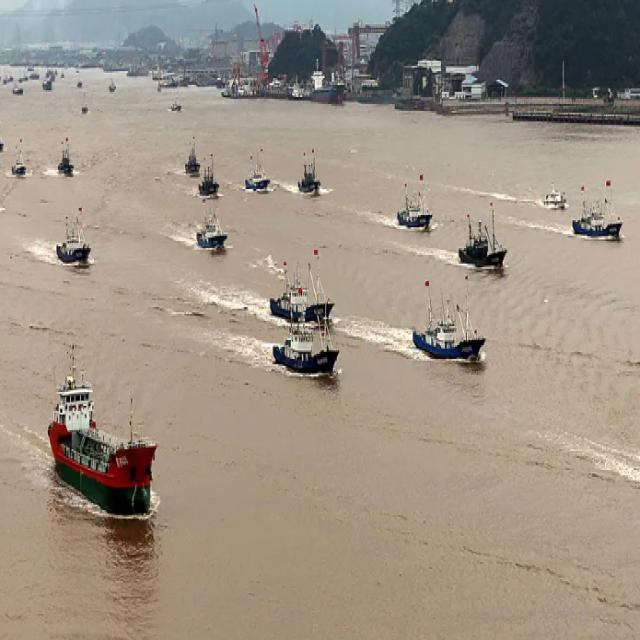cargoship: (46, 354, 158, 516)
fishing boat: (412, 273, 487, 361), (270, 310, 338, 380), (274, 251, 334, 324), (573, 180, 623, 243), (462, 207, 508, 265), (56, 205, 95, 273), (394, 169, 428, 233), (294, 144, 321, 191), (197, 208, 227, 250), (244, 148, 267, 195), (199, 154, 221, 199), (55, 134, 77, 178), (541, 177, 569, 209), (6, 137, 28, 177), (182, 130, 200, 172), (12, 78, 26, 96), (170, 92, 180, 117), (107, 78, 117, 94), (75, 75, 85, 91), (81, 99, 89, 118)
